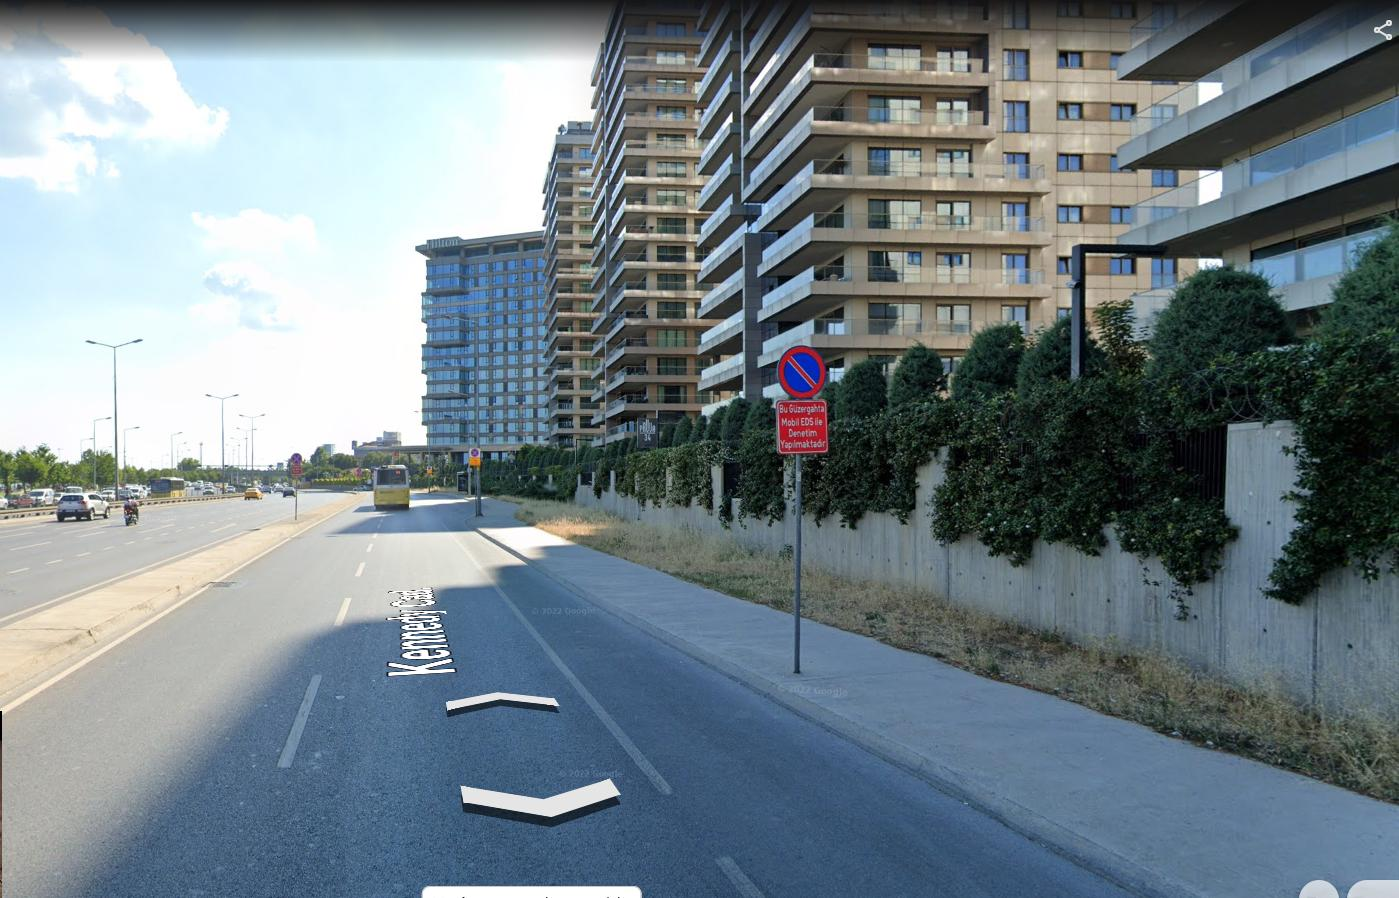nopark: (780, 348, 824, 400)
